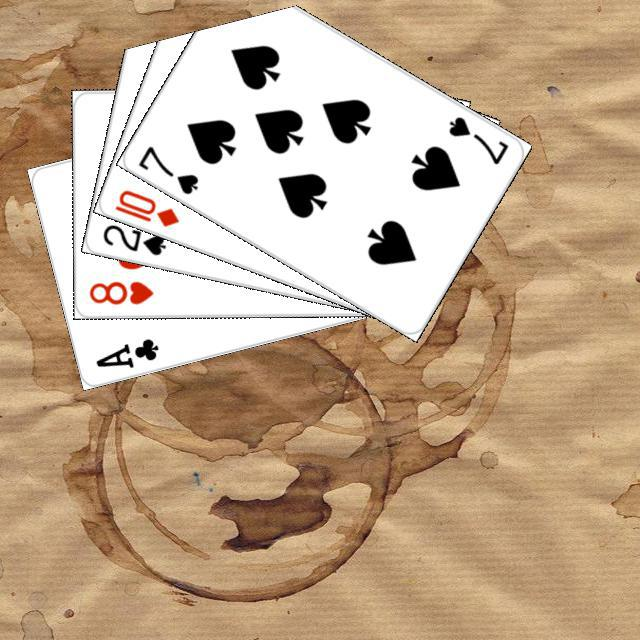10d: (109, 184, 181, 229)
2s: (98, 219, 168, 258)
7s: (133, 141, 201, 197), (443, 111, 510, 167)
8h: (84, 276, 155, 306)
Ac: (90, 333, 161, 370)
